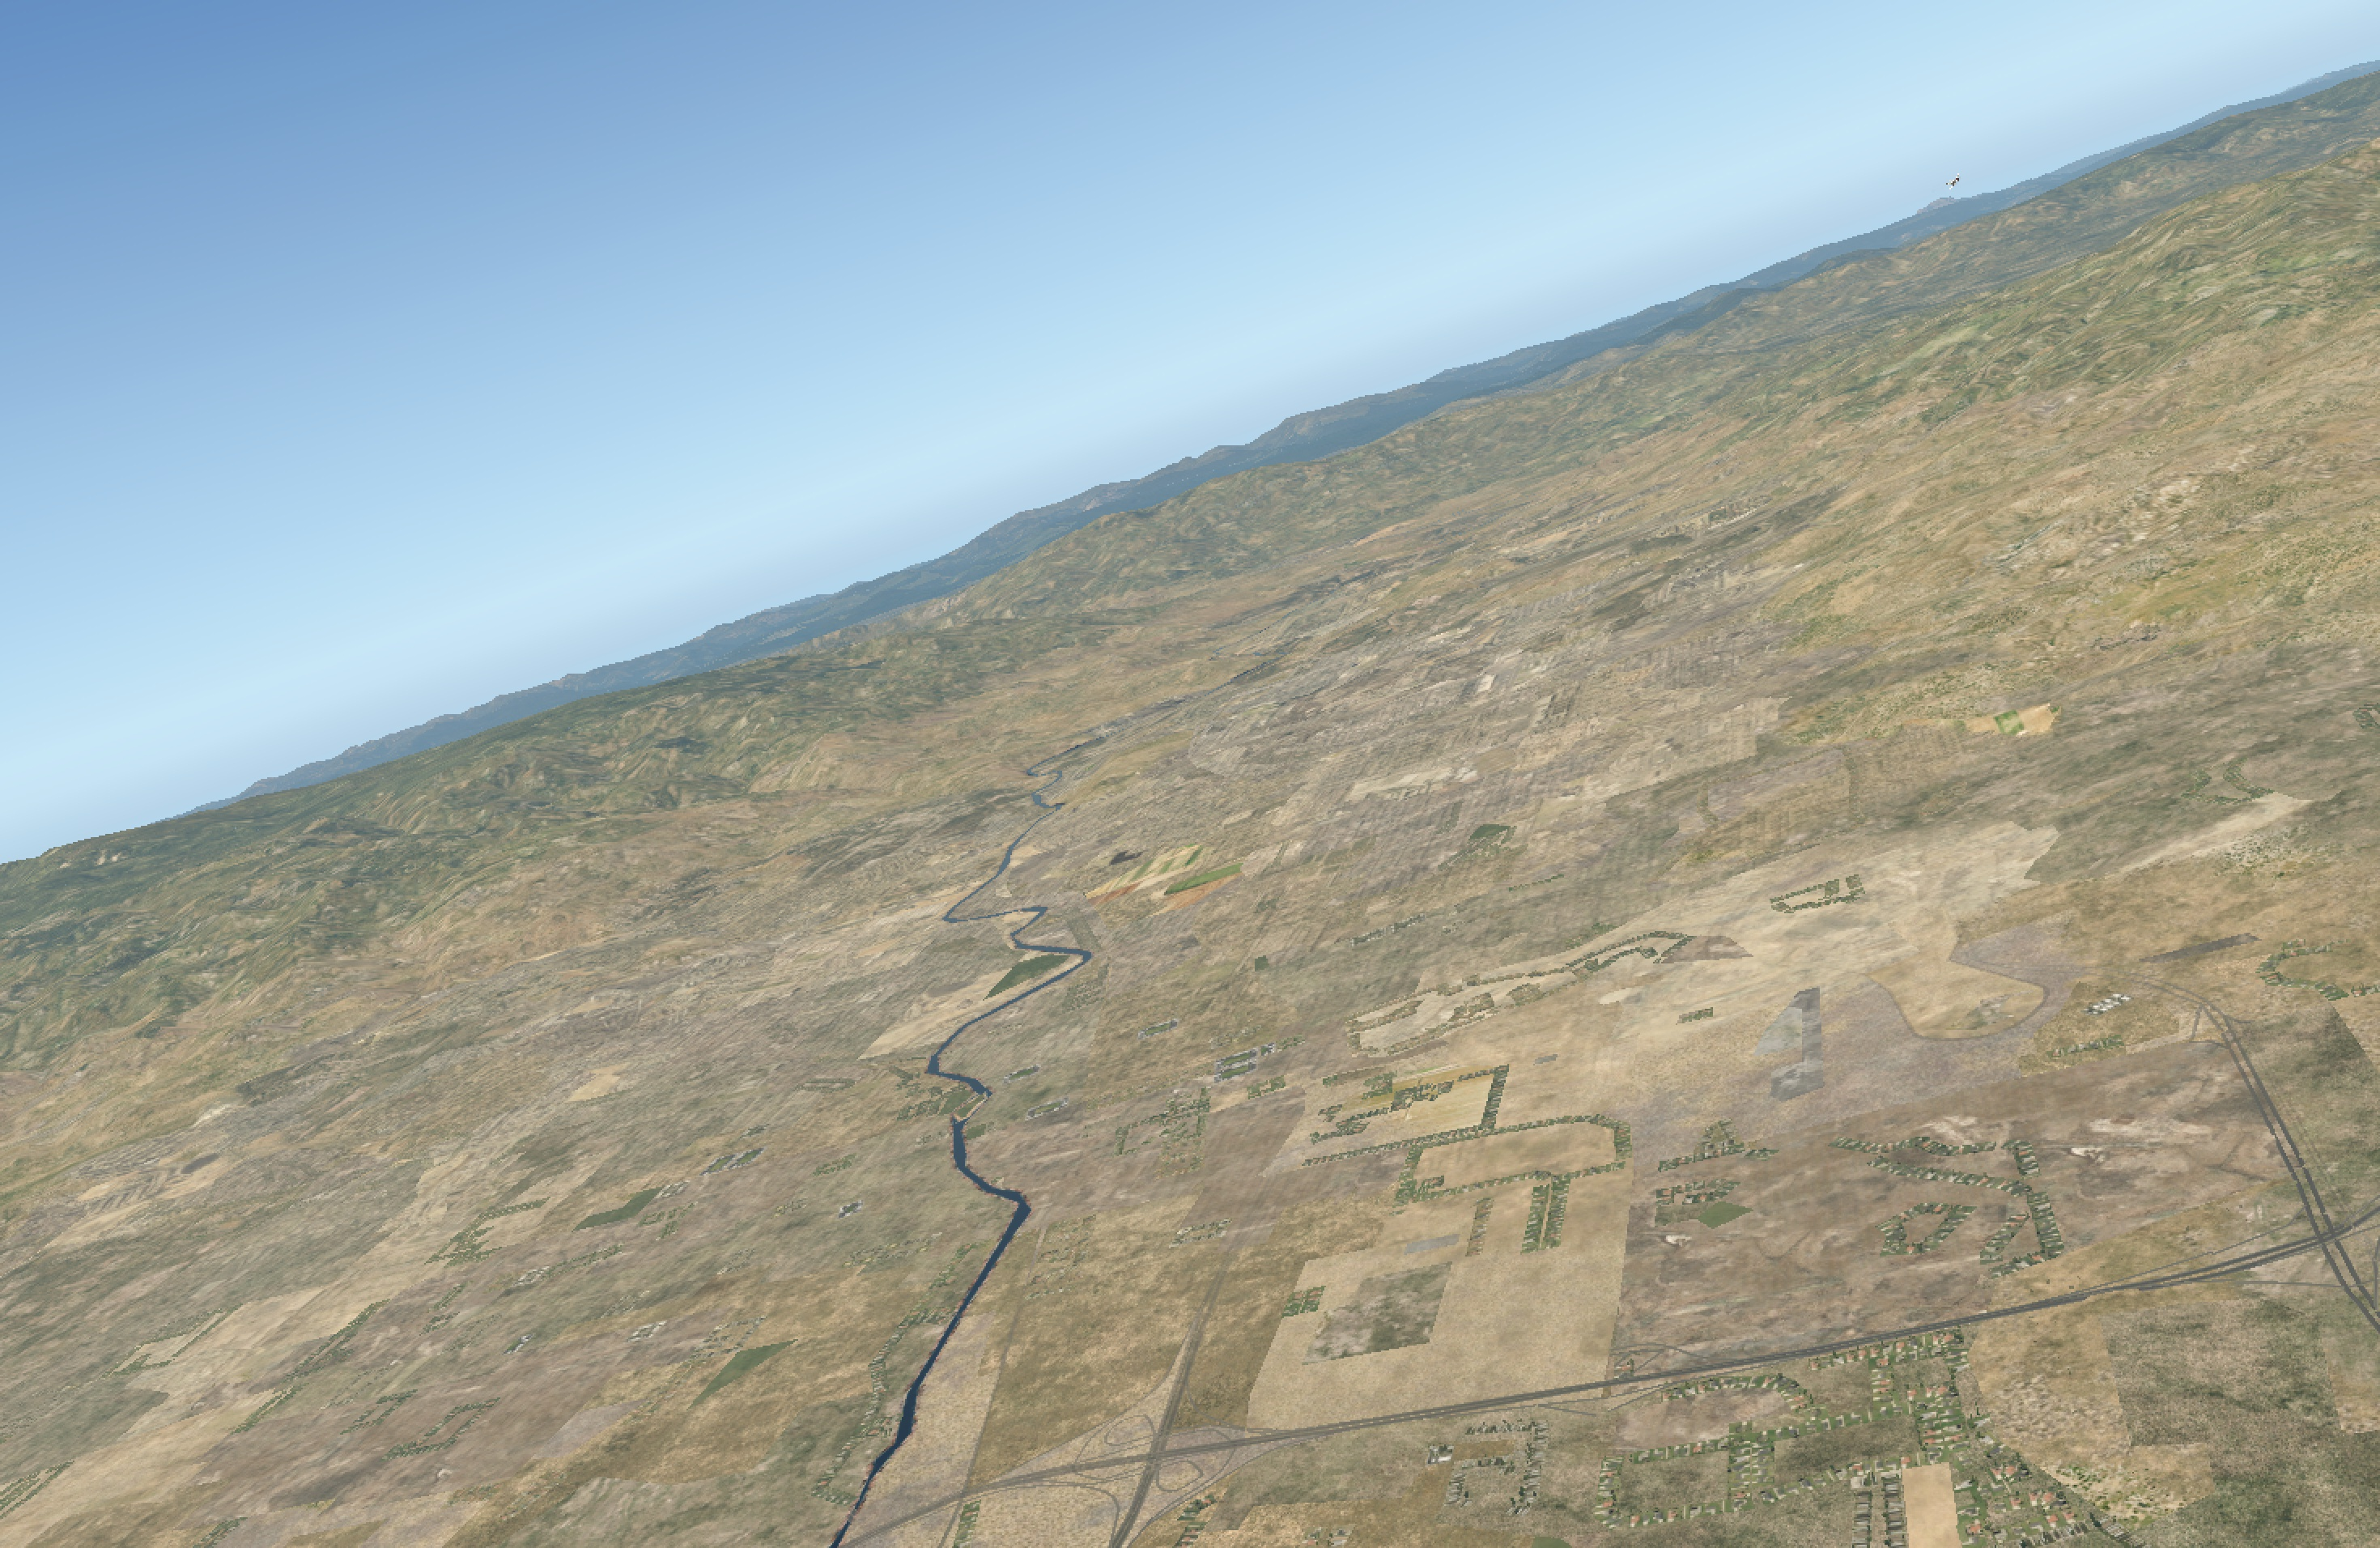aircraft: (1943, 177, 1967, 187)
